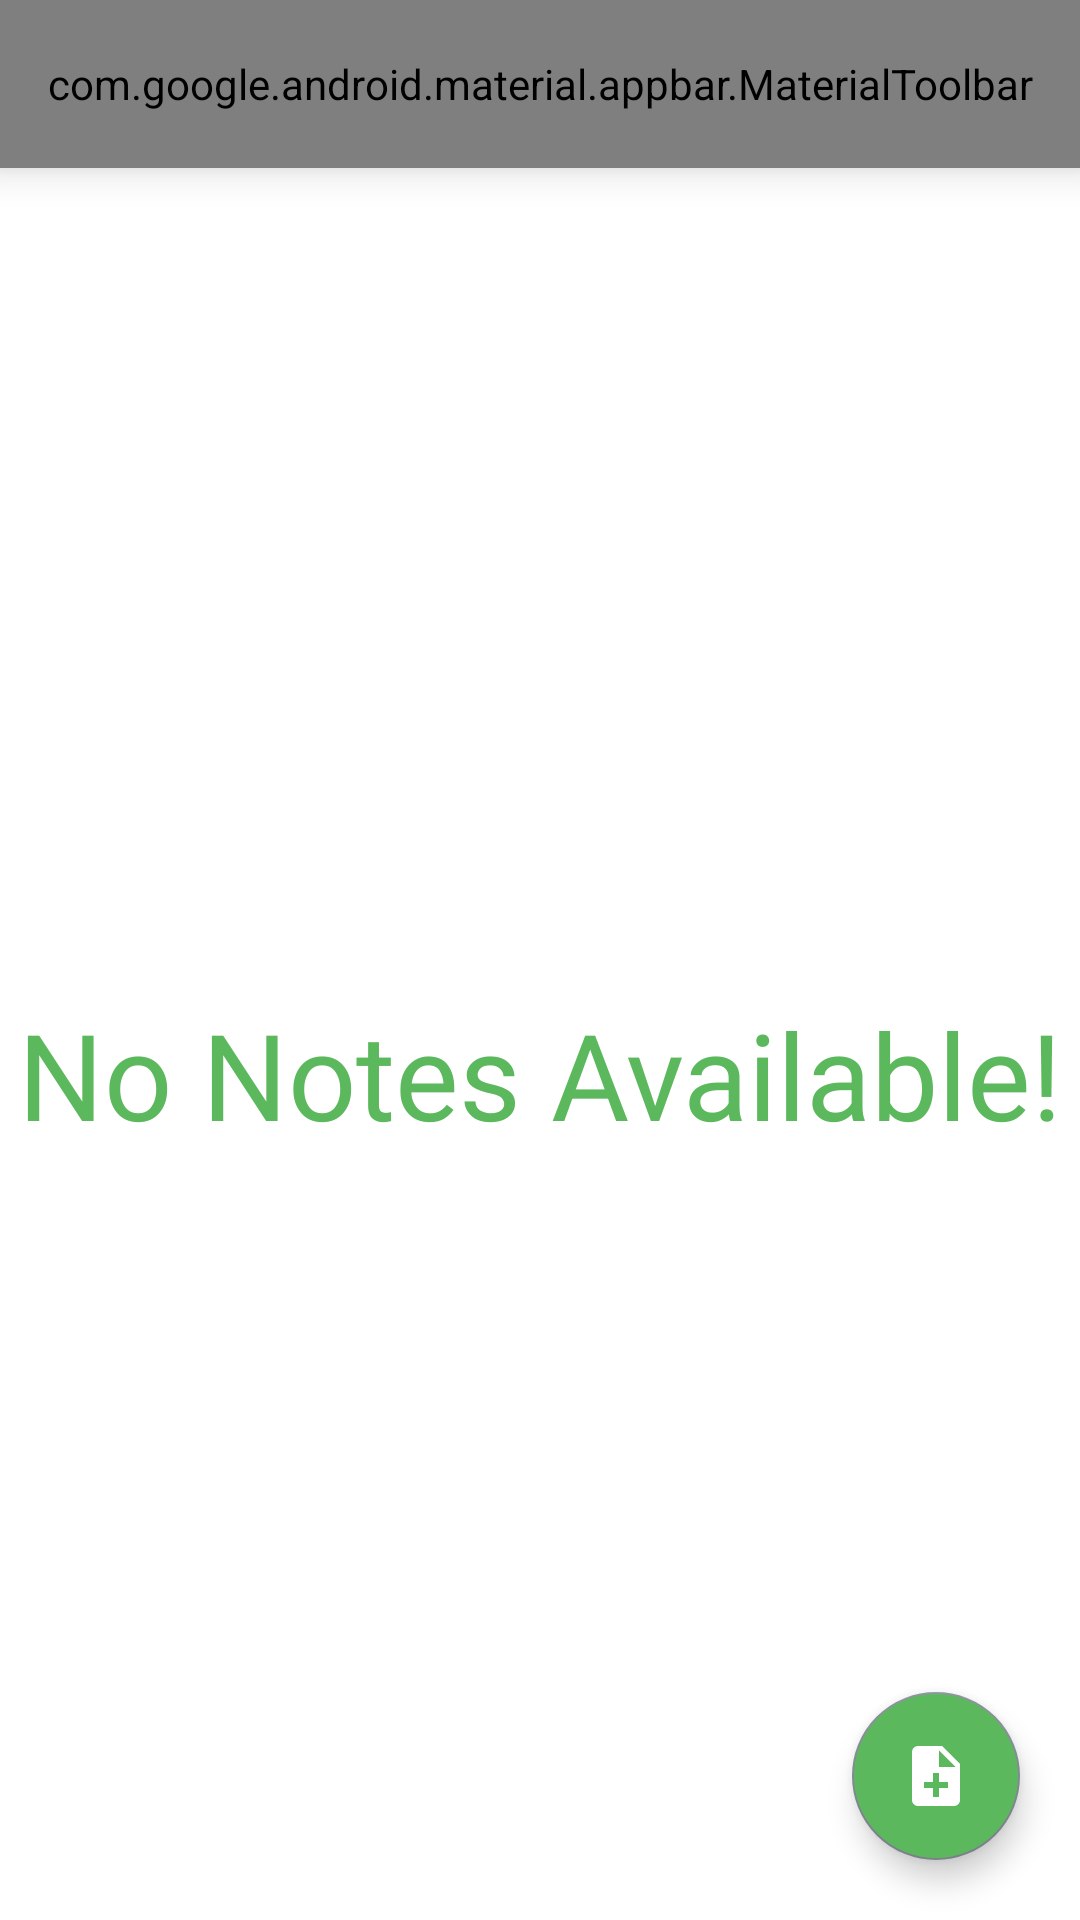

Where icons sit on this 1080 x 1920 app screen, as (x1, y1, x2, y2):
Add a Note: (852, 1692, 1020, 1860)
